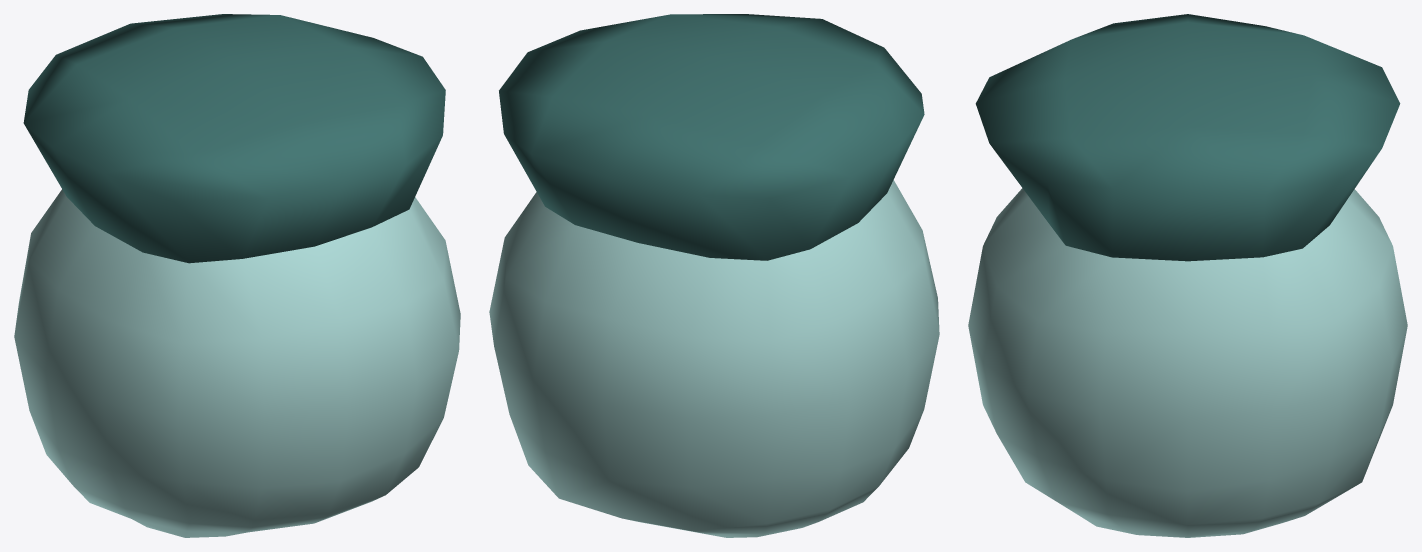
The model's file is waist.fbx.
The picture shows the model from 3 angles, left to right: view 1: azimuth 30°, elevation 25°; view 2: azimuth 150°, elevation 25°; view 3: azimuth 270°, elevation 25°; orthographic projection.
Parts seen in each view (by area): view 1: polySurface1; view 2: polySurface1; view 3: polySurface1.
Boxes of the visible parts, box(x1,y1,x2,y2) form: polySurface1: box(14, 14, 460, 537); polySurface1: box(489, 14, 939, 537); polySurface1: box(968, 14, 1407, 537).
Size of the model in its own units: 8.78 by 9.18 by 8.78.
1 material, 1 textured.
